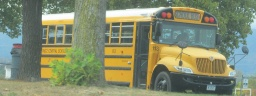bus: (28, 5, 238, 94)
